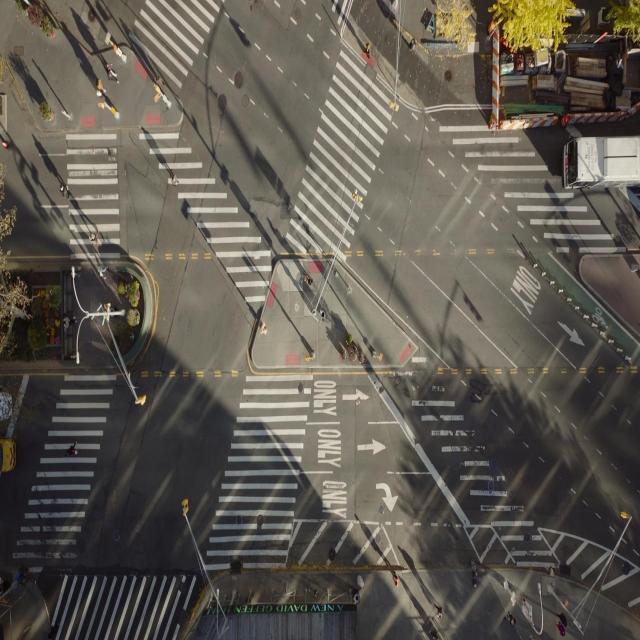Bus: (559, 135, 640, 190)
Car: (0, 438, 16, 474), (0, 390, 13, 424)
